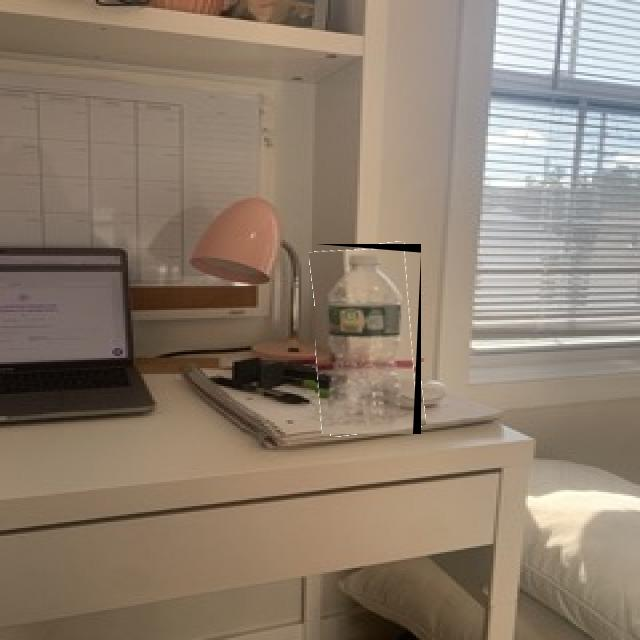water_bottle: (315, 244, 421, 434)
